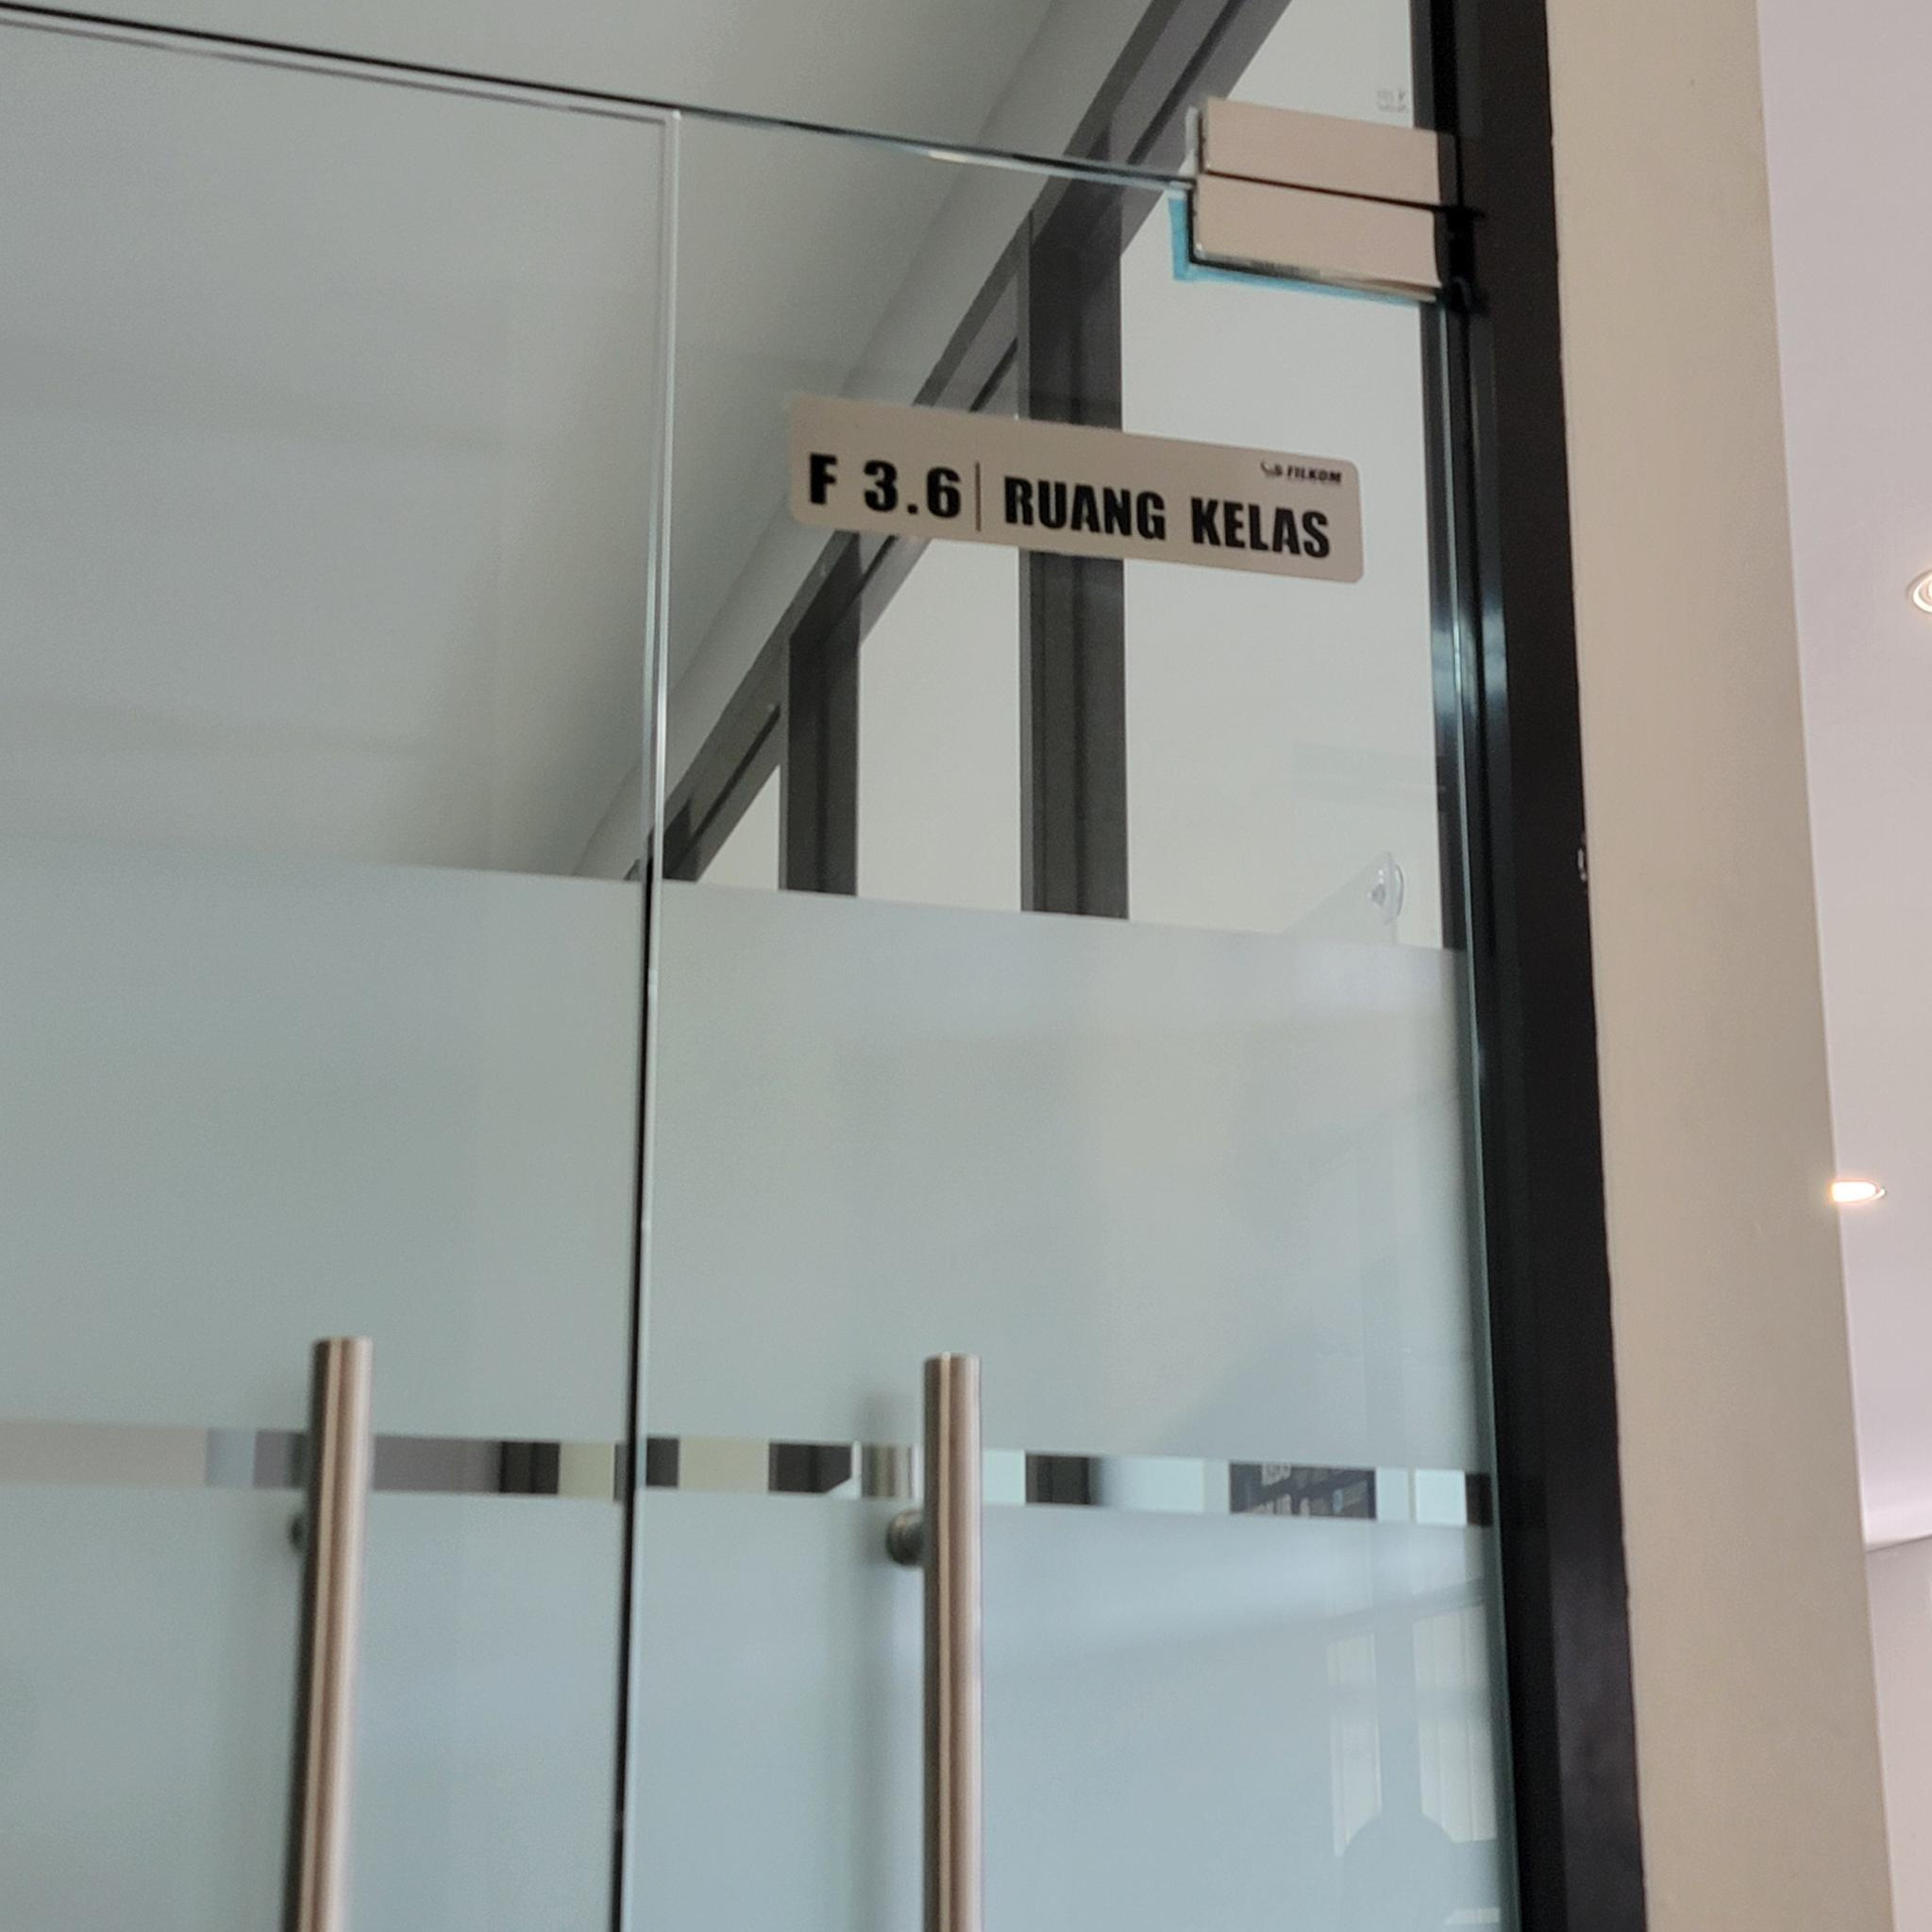plate: (789, 392, 1363, 586)
